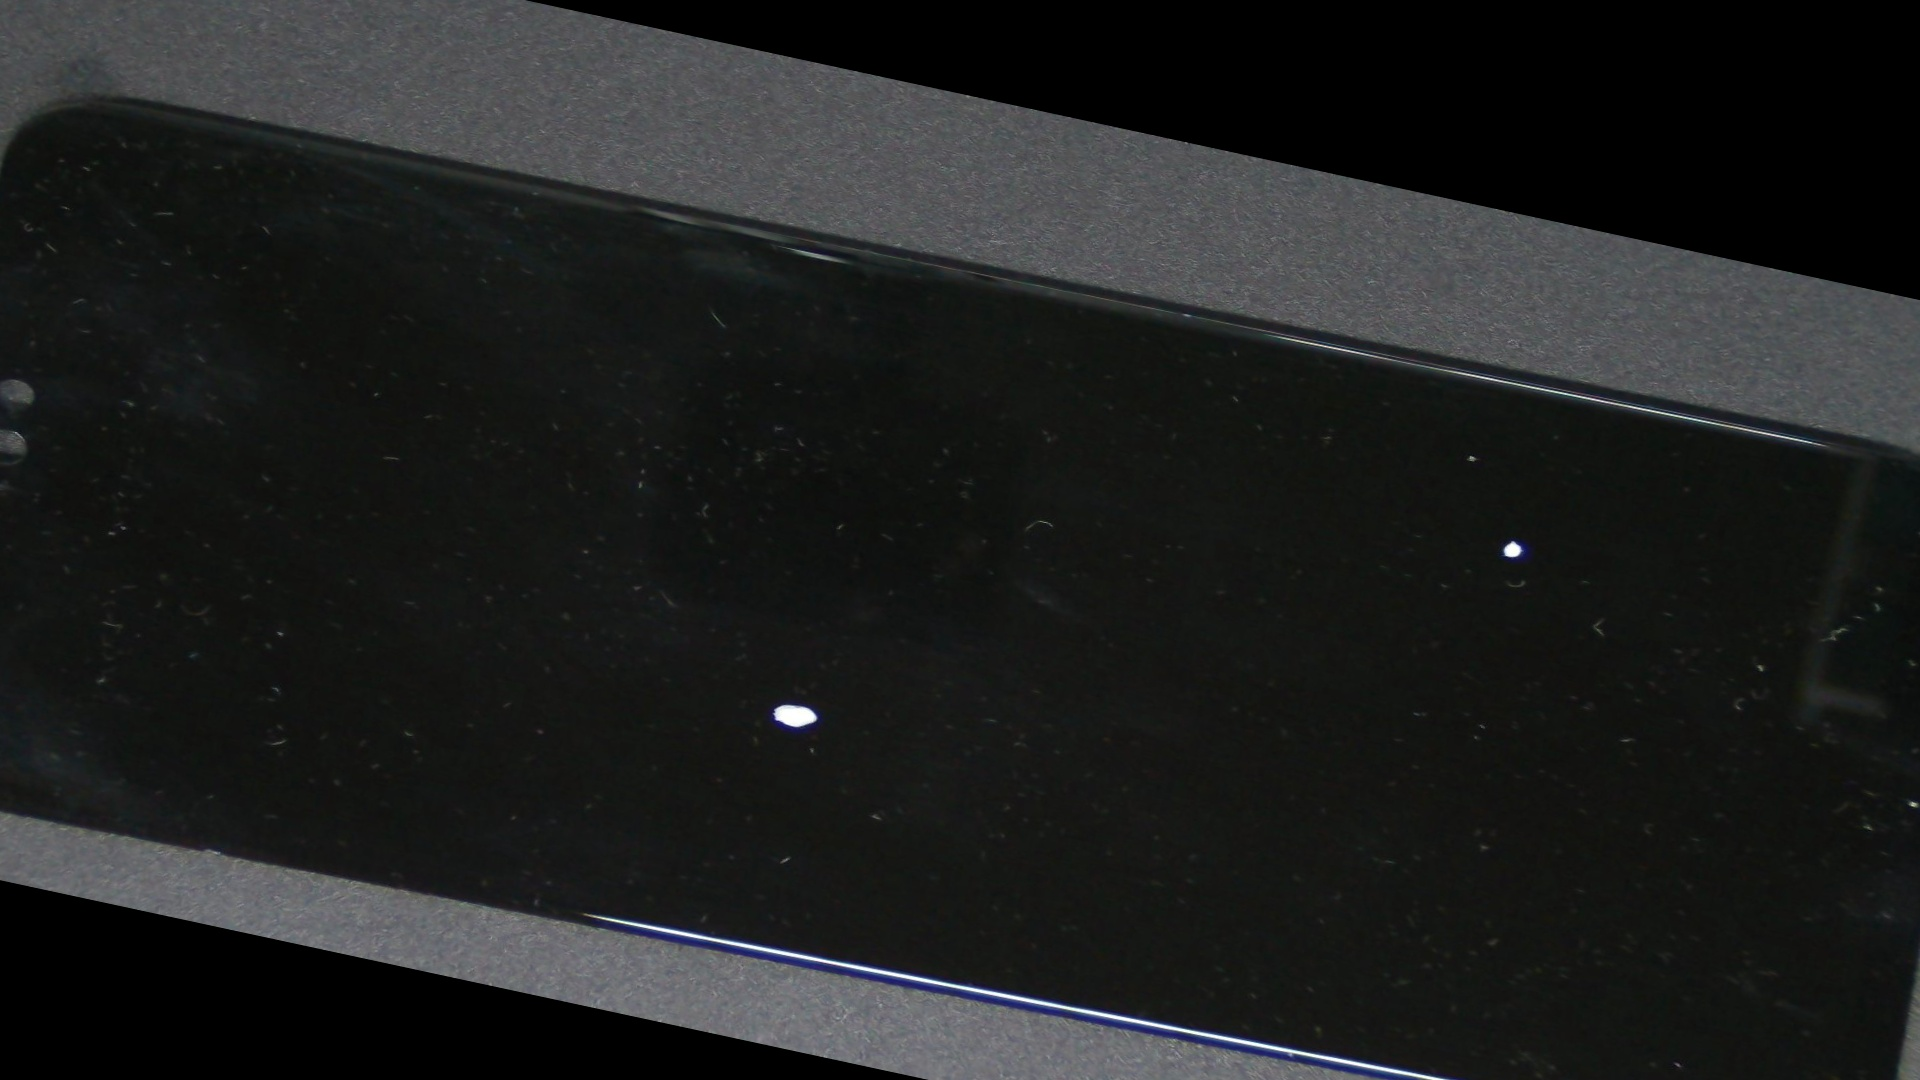oil: (229, 287, 1369, 1080), (650, 204, 1920, 820)
